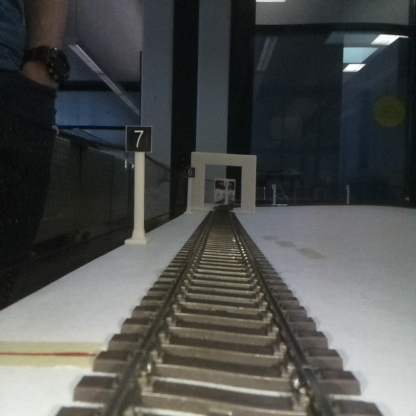black-info-6: (185, 166, 195, 213)
black-info-7: (126, 125, 151, 242)
